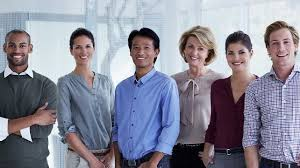person: (264, 21, 300, 68), (180, 28, 215, 69), (128, 29, 160, 69), (225, 31, 254, 74), (2, 29, 33, 67), (68, 28, 95, 66)
